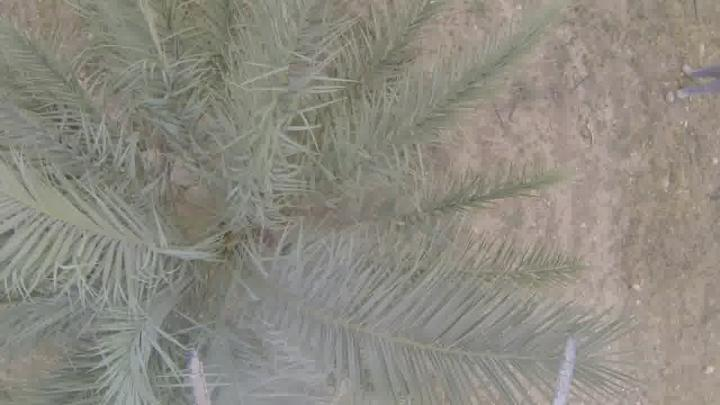Date-Palm-Crown: (20, 0, 422, 404)
